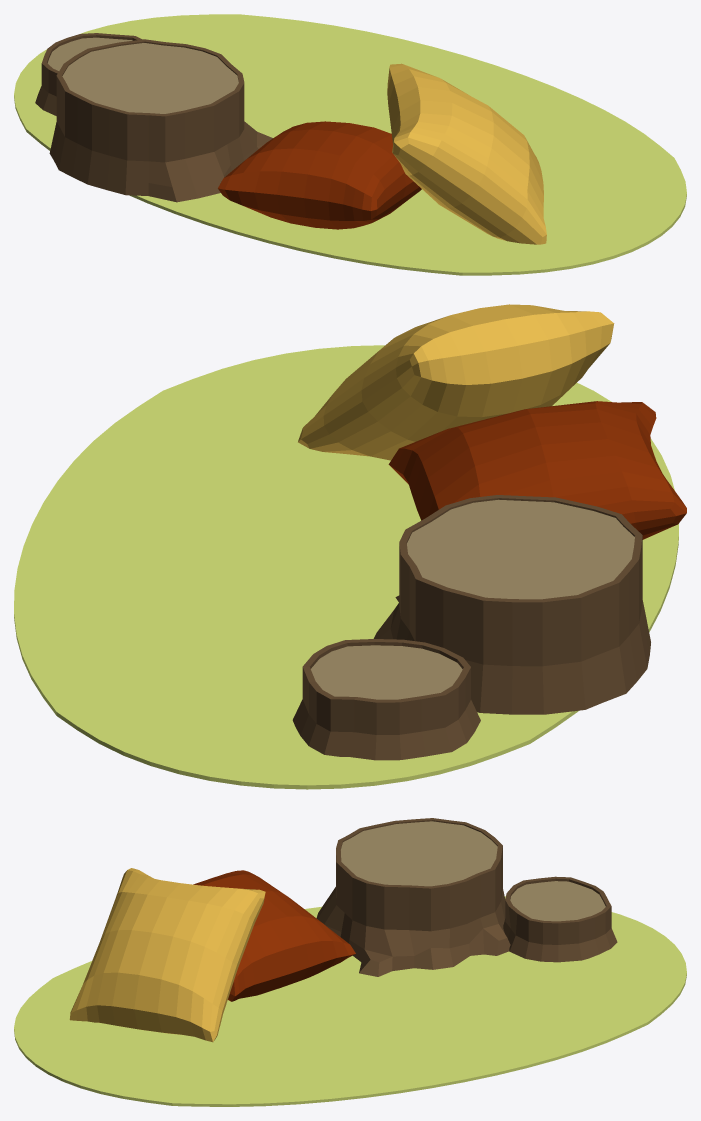
File: readingArea.glb
3 renders of one model, top to bottom at view 1: azimuth 30°, elevation 25°; view 2: azimuth 150°, elevation 25°; view 3: azimuth 270°, elevation 25°, orthographic. The views are drawn at different scales.
Parts seen in each view (by area): view 1: Plane; view 2: Plane; view 3: Plane.
Part boxes in pixels (<box>): Plane: <box>14,14,686,275</box>; Plane: <box>14,304,686,789</box>; Plane: <box>14,818,686,1106</box>.
Size of the model in its own units: 2.64 by 0.7012 by 3.48.
